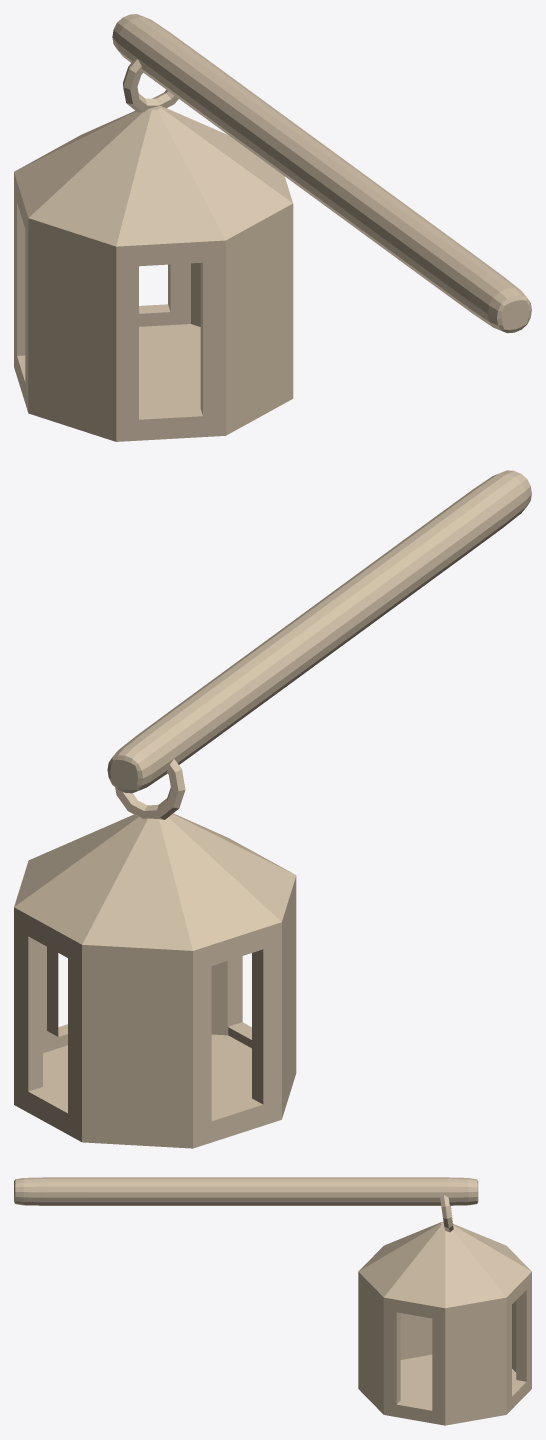
The model's file is Light_2.fbx.
The picture shows the model from 3 angles, top to bottom: view 1: azimuth 30°, elevation 25°; view 2: azimuth 150°, elevation 25°; view 3: azimuth 270°, elevation 25°; orthographic projection. The views are drawn at different scales.
Parts seen in each view (by area): view 1: Light_2; view 2: Light_2; view 3: Light_2.
Boxes of the visible parts, <box> form: Light_2: <box>14,14,531,441</box>; Light_2: <box>14,470,531,1148</box>; Light_2: <box>14,1177,531,1425</box>.
Bounding box in the file's own units: 5.91 × 7.93 × 17.64.
